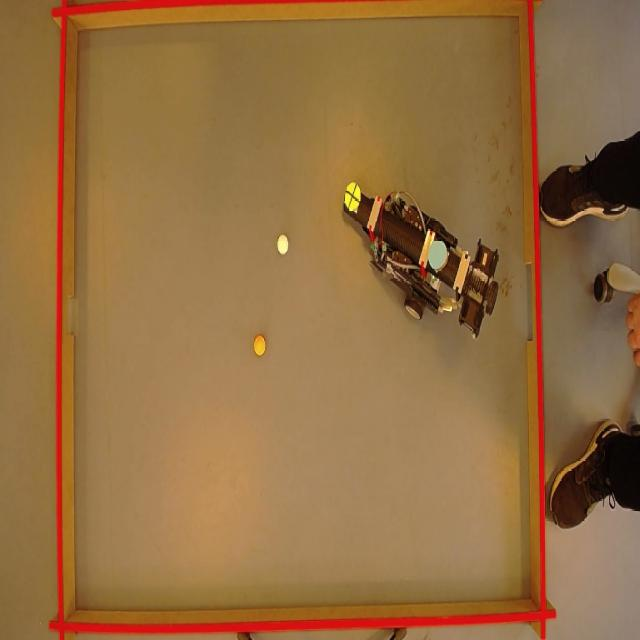orange: (252, 334, 268, 356)
robot: (332, 187, 511, 336)
robot-front: (344, 182, 361, 212)
robot-rear: (424, 236, 449, 271)
white: (275, 234, 289, 255)
